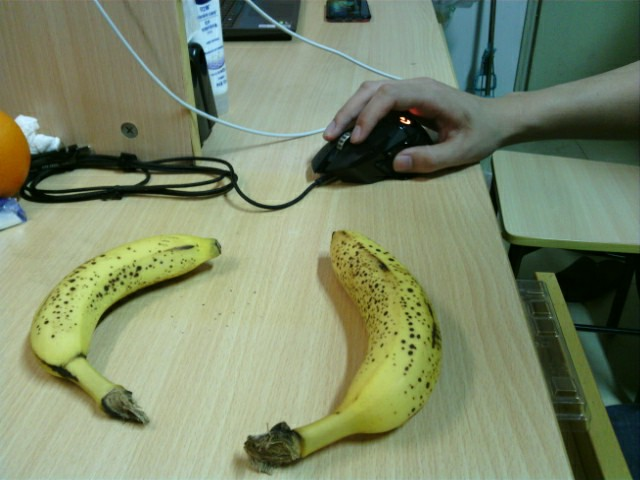normal_banana: (243, 232, 441, 473), (30, 235, 222, 427)
